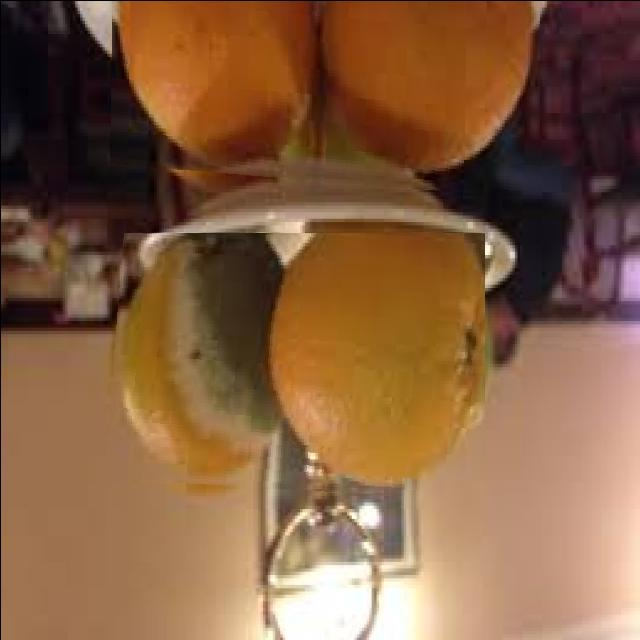Organic: (103, 232, 484, 500), (109, 0, 538, 198)
